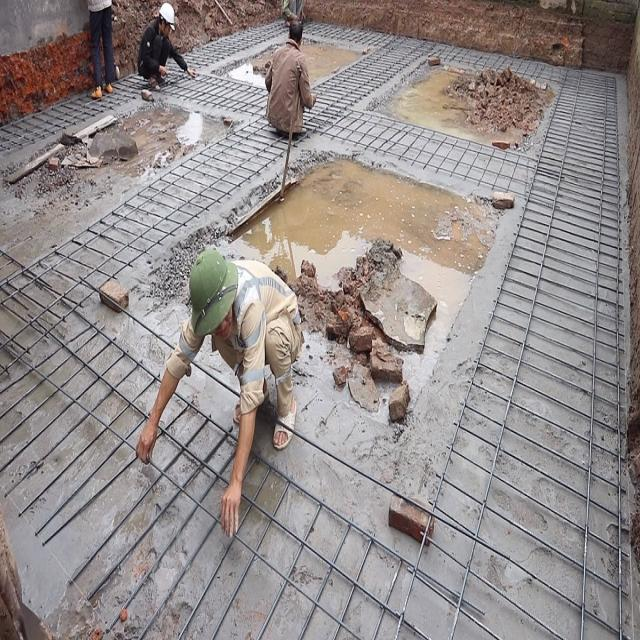boots: (91, 85, 103, 105)
hardhat: (159, 0, 178, 28)
no_boots: (272, 392, 298, 452)
no_gloves: (218, 472, 242, 530), (136, 424, 158, 476), (184, 64, 195, 78), (161, 61, 167, 72)
no_hardhat: (190, 248, 233, 337), (291, 16, 304, 46)
no_vest: (214, 244, 300, 384), (270, 43, 305, 131), (138, 24, 178, 86)
person: (134, 242, 300, 540), (134, 2, 194, 112), (266, 22, 317, 138), (88, 2, 118, 104)
